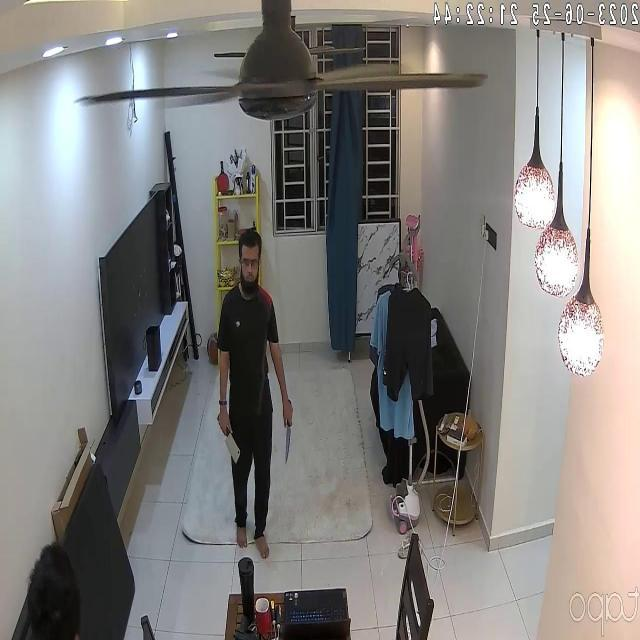Knife: (274, 398, 304, 460), (213, 419, 246, 468)
